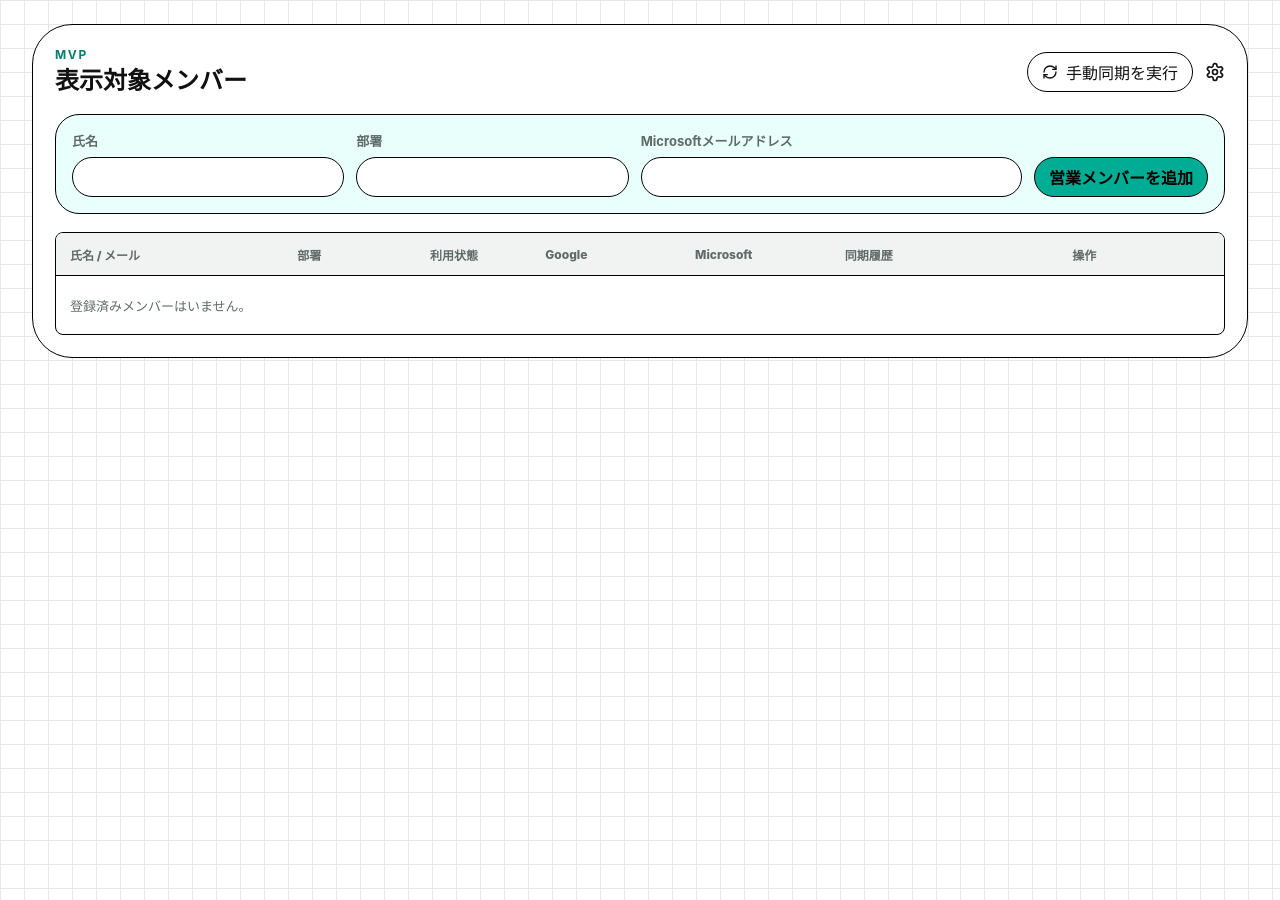
Test: AdminMembers › フォームからBearer認証付きで登録し一覧へ追加する
Expected: the text "登録済みメンバーはいません。" is shown, [70,298,252,314]
Type "佐藤 花子" into the field labelled "氏名" at (208, 177), box [72,157,344,197]
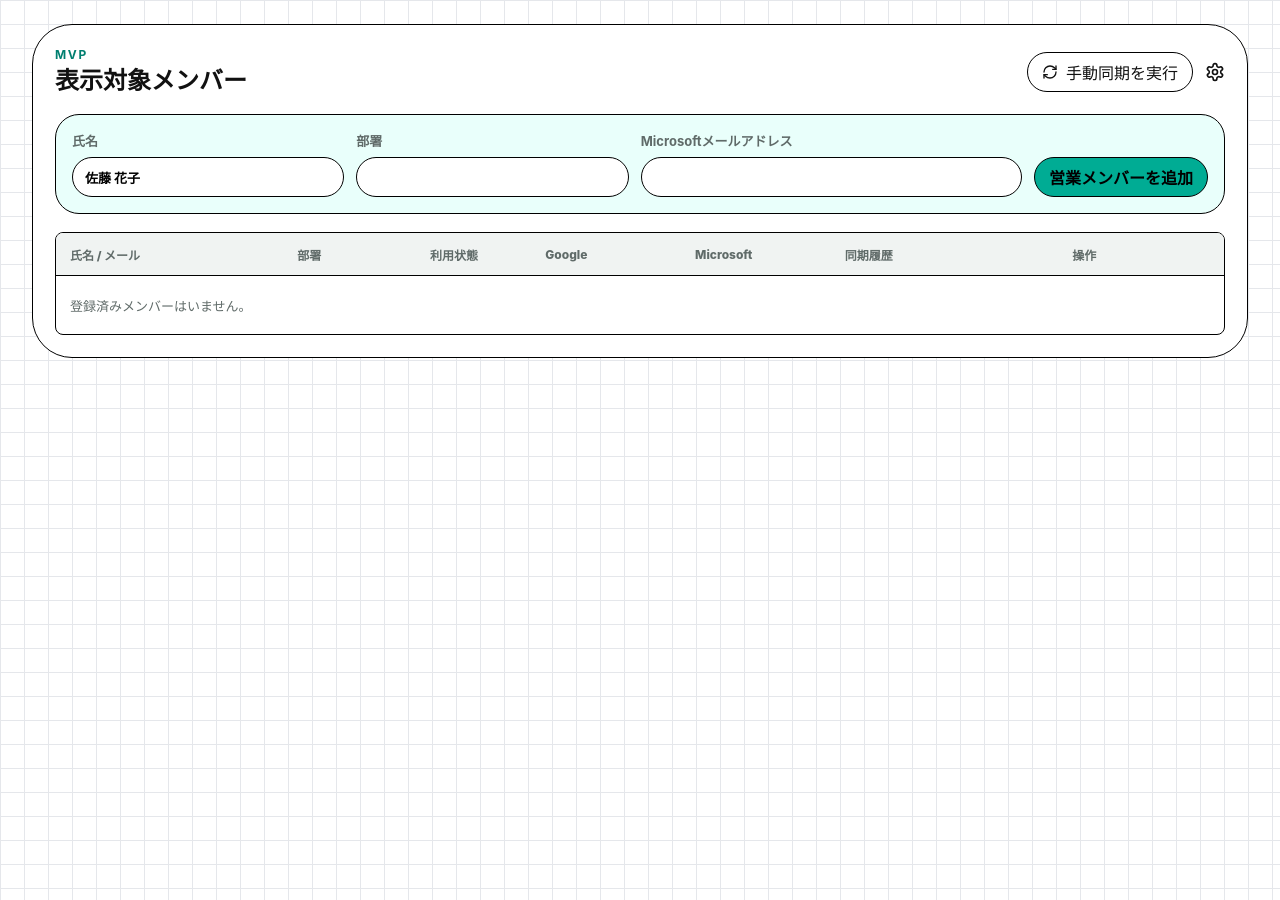
Type "営業一課" into the field labelled "部署" at (492, 177), box [356,157,629,197]
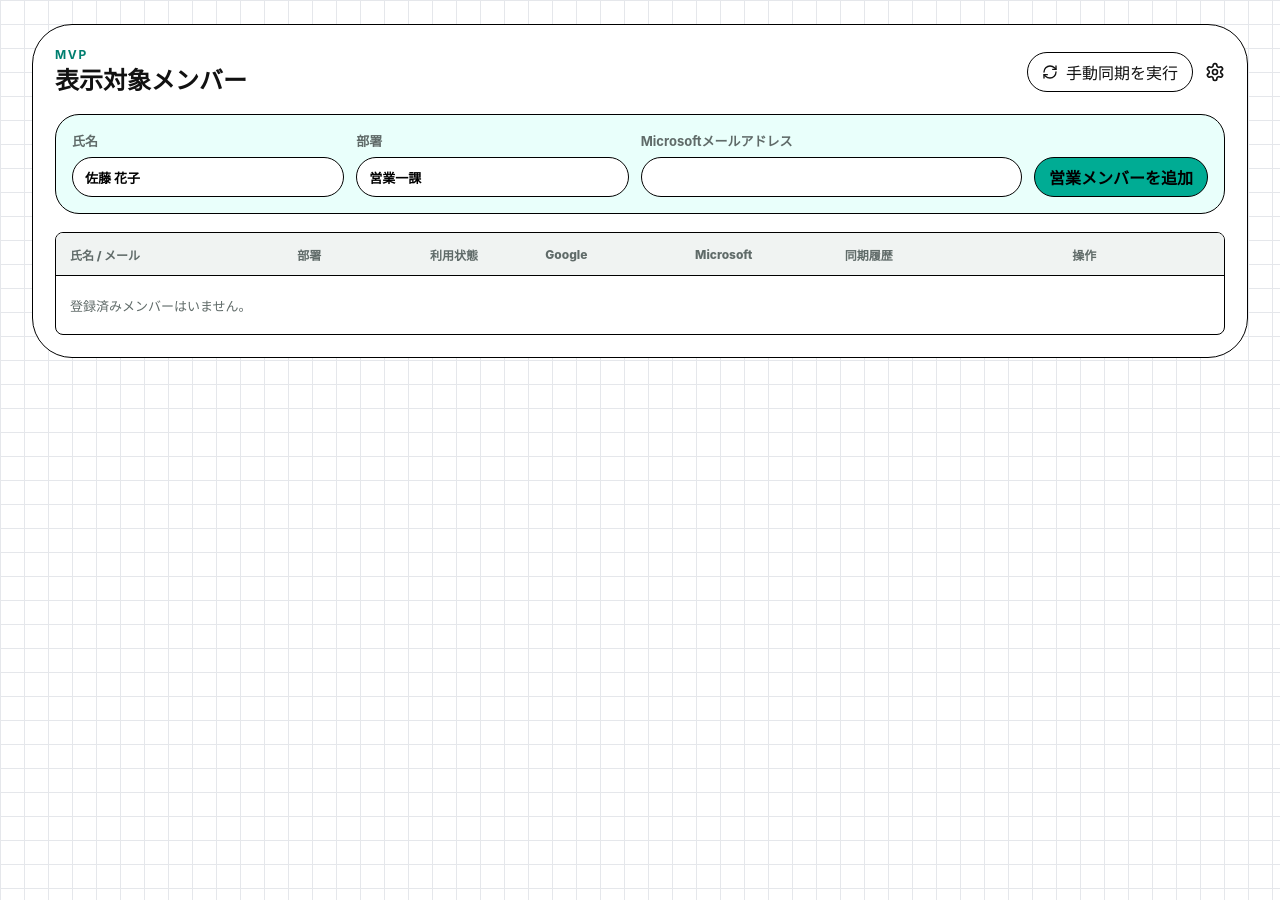
Type "hanako@example.com" into the field labelled "Microsoftメールアドレス" at (831, 177), box [641,157,1022,197]
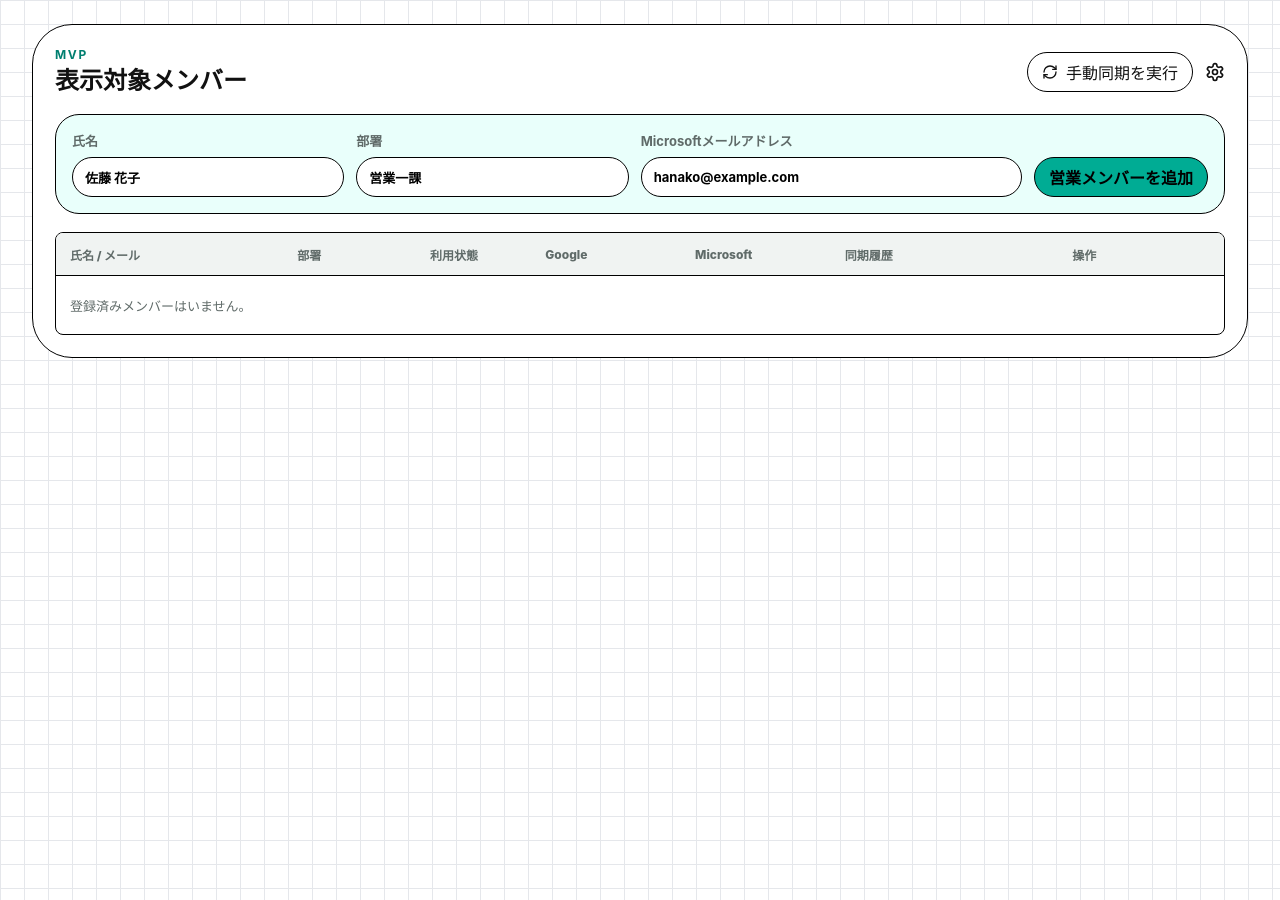
Click the button "営業メンバーを追加" at (1121, 177), box [1034,157,1208,197]
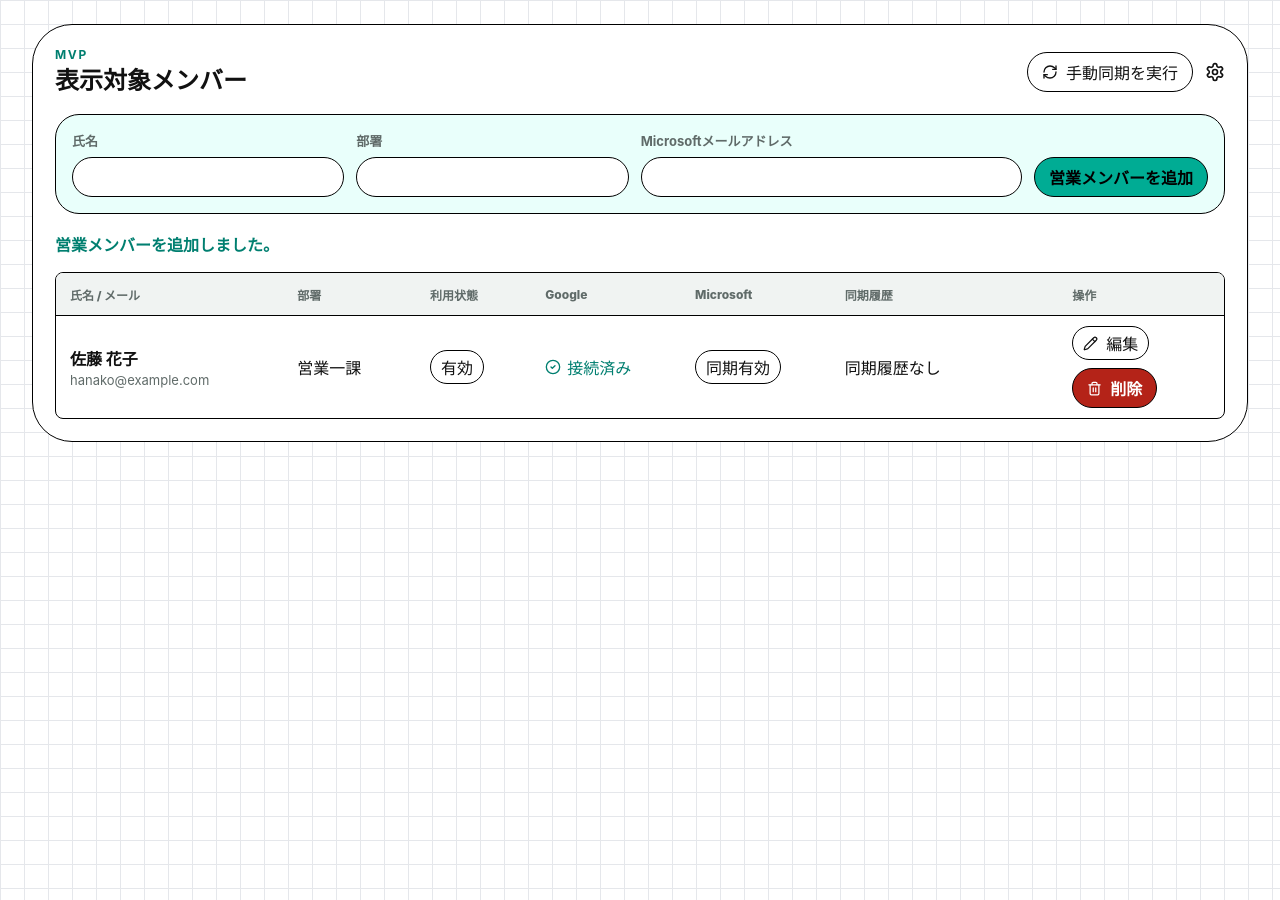
Expected: the text "営業メンバーを追加しました。" is shown, [55,235,279,255]
Expected: the text "佐藤 花子" is shown, [70,349,138,369]
